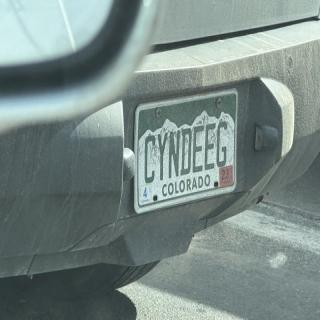license: (135, 90, 239, 215)
